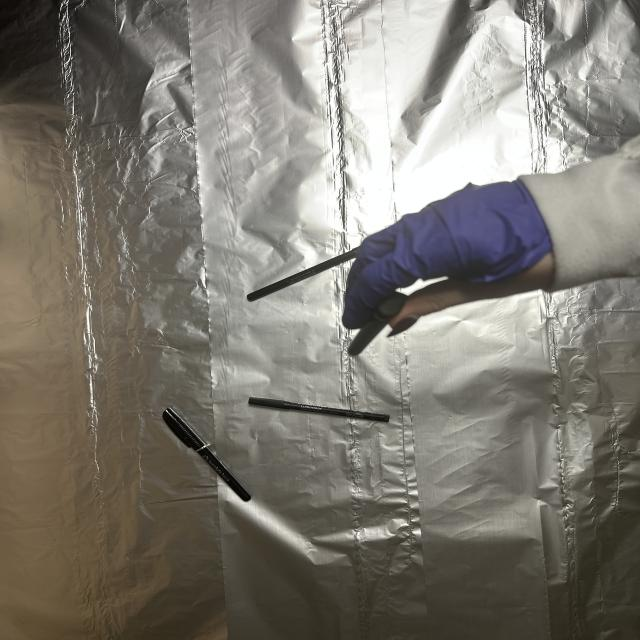glove_partial: (335, 181, 562, 337)
